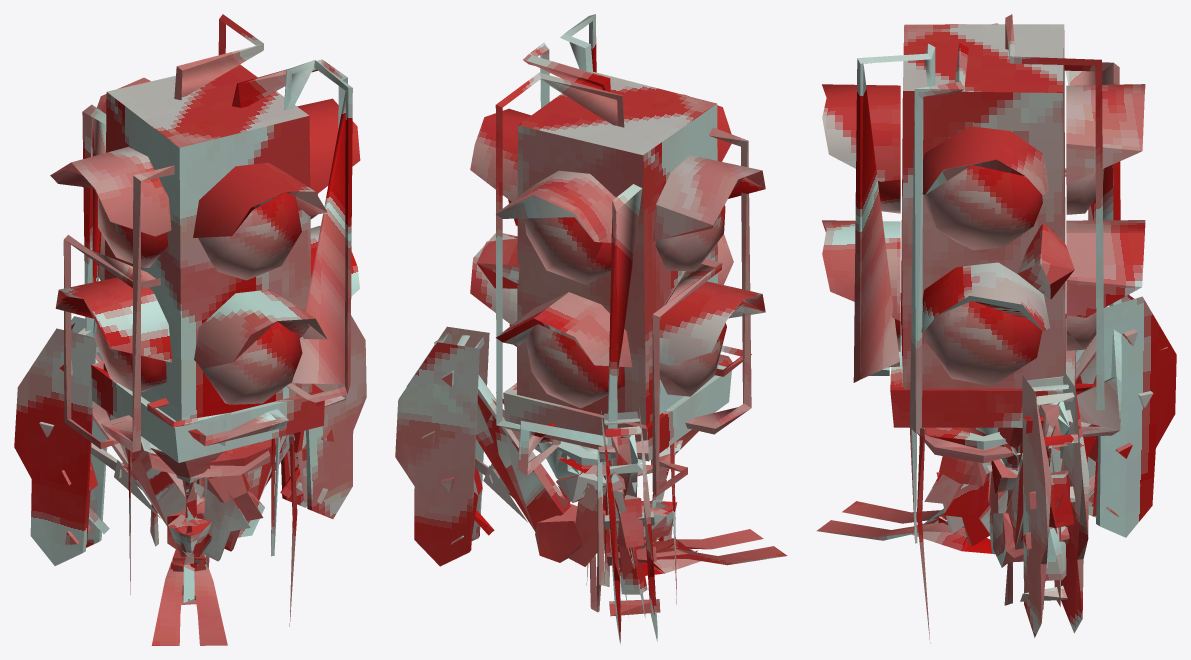
The model's file is item_squishy_gold_redgreen.glb.
3 renders of one model, left to right at view 1: azimuth 30°, elevation 25°; view 2: azimuth 150°, elevation 25°; view 3: azimuth 270°, elevation 25°, orthographic. The views are drawn at different scales.
Parts seen in each view (by area): view 1: toy_redgreen; view 2: toy_redgreen; view 3: toy_redgreen.
Part boxes in pixels (x1,y1,x2,y2): toy_redgreen: (14, 14, 366, 645); toy_redgreen: (395, 14, 787, 644); toy_redgreen: (817, 14, 1176, 643).
Size of the model in its own units: 0.1318 by 0.2225 by 0.1201.
Materials: 1 (1 with a texture image).
